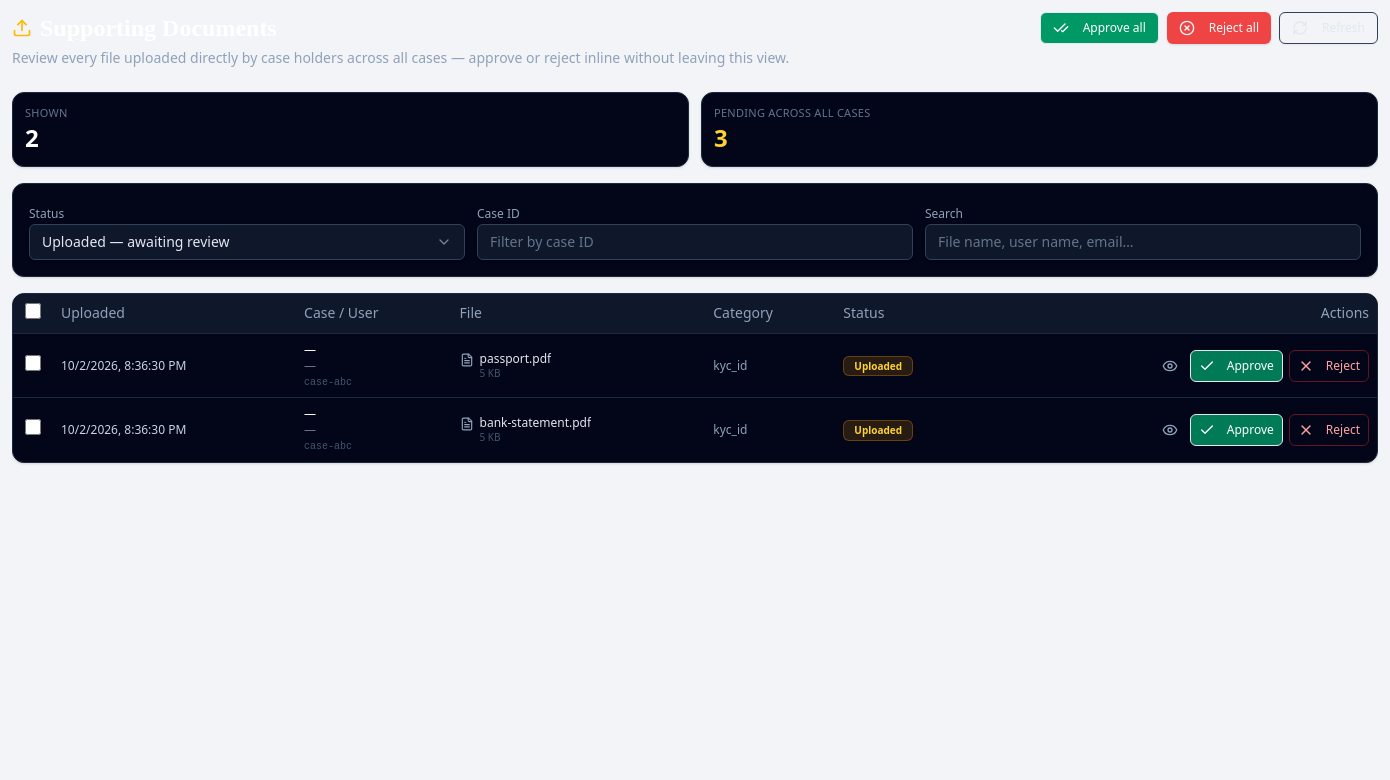
Test: SupportingDocumentsTab – bulk reject (Task #442) › shows confirmation panel when 'Reject all' is clicked
Click the button with test id "button-bulk-reject-supporting-docs" at x=1219, y=28, box [1167,12,1271,44]
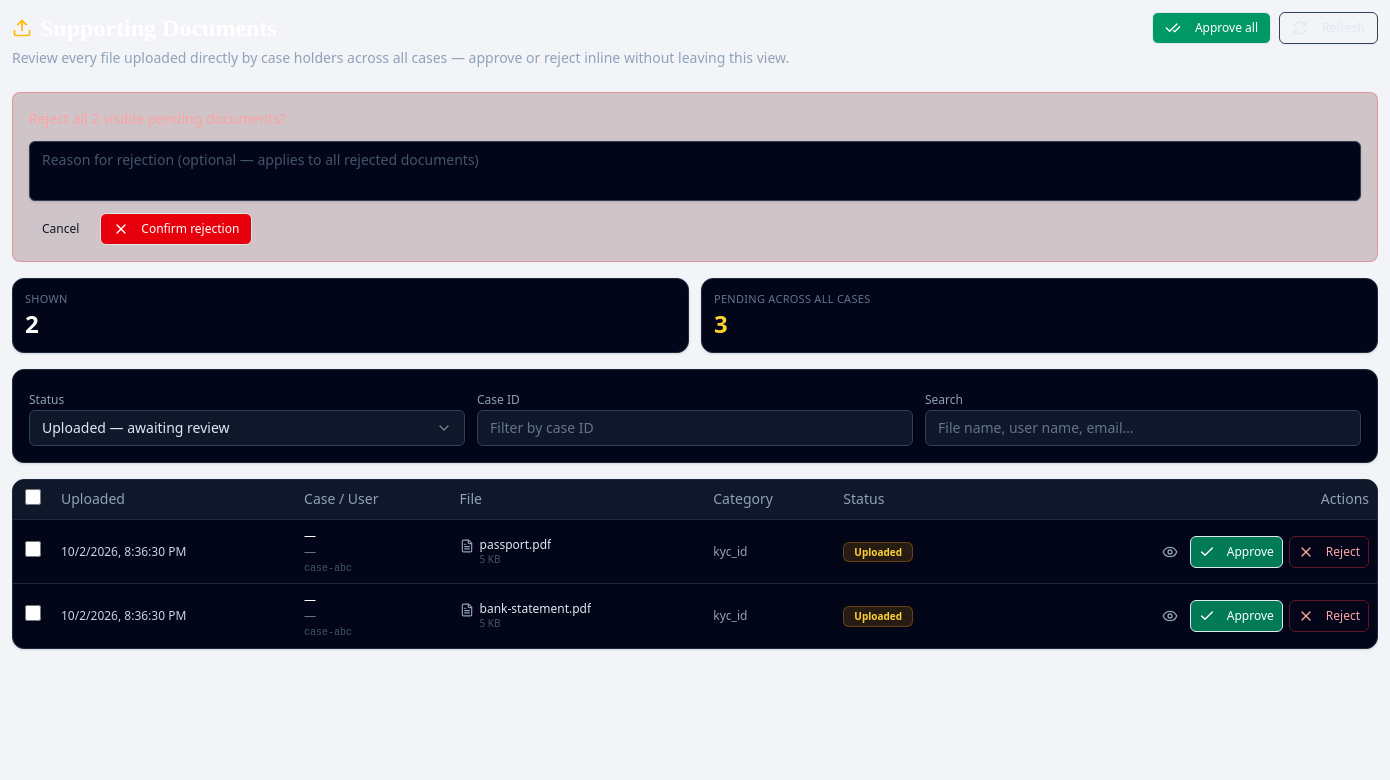
Result: the element with test id "panel-bulk-reject-confirm-supporting-docs" is shown at [12,92,1378,262]
Result: the text box with test id "textarea-bulk-reject-notes-supporting-docs" is shown at [29,141,1361,201]
Result: the button with test id "button-bulk-reject-confirm-supporting-docs" is shown at [100,213,252,245]
